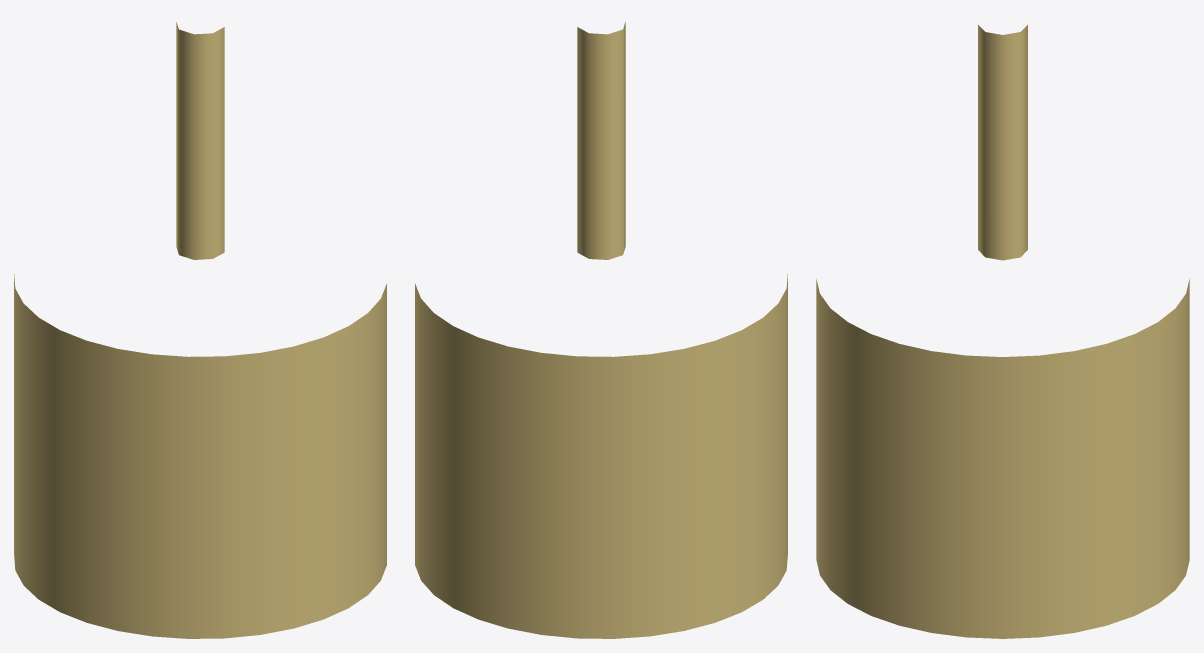
The model's file is test-jhumka.glb.
The picture shows the model from 3 angles, left to right: view 1: azimuth 30°, elevation 25°; view 2: azimuth 150°, elevation 25°; view 3: azimuth 270°, elevation 25°; orthographic projection.
Parts seen in each view (by area): view 1: Model; view 2: Model; view 3: Model.
Boxes of the visible parts, x1=… form: Model: x1=14, y1=22, x2=386, y2=638; Model: x1=415, y1=22, x2=787, y2=638; Model: x1=816, y1=25, x2=1189, y2=638.
Bounding box in the file's own units: 12 × 21 × 12.
